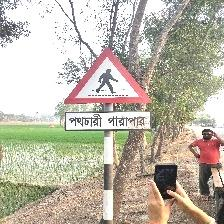Pedestrian-crossing: (63, 48, 152, 132)
